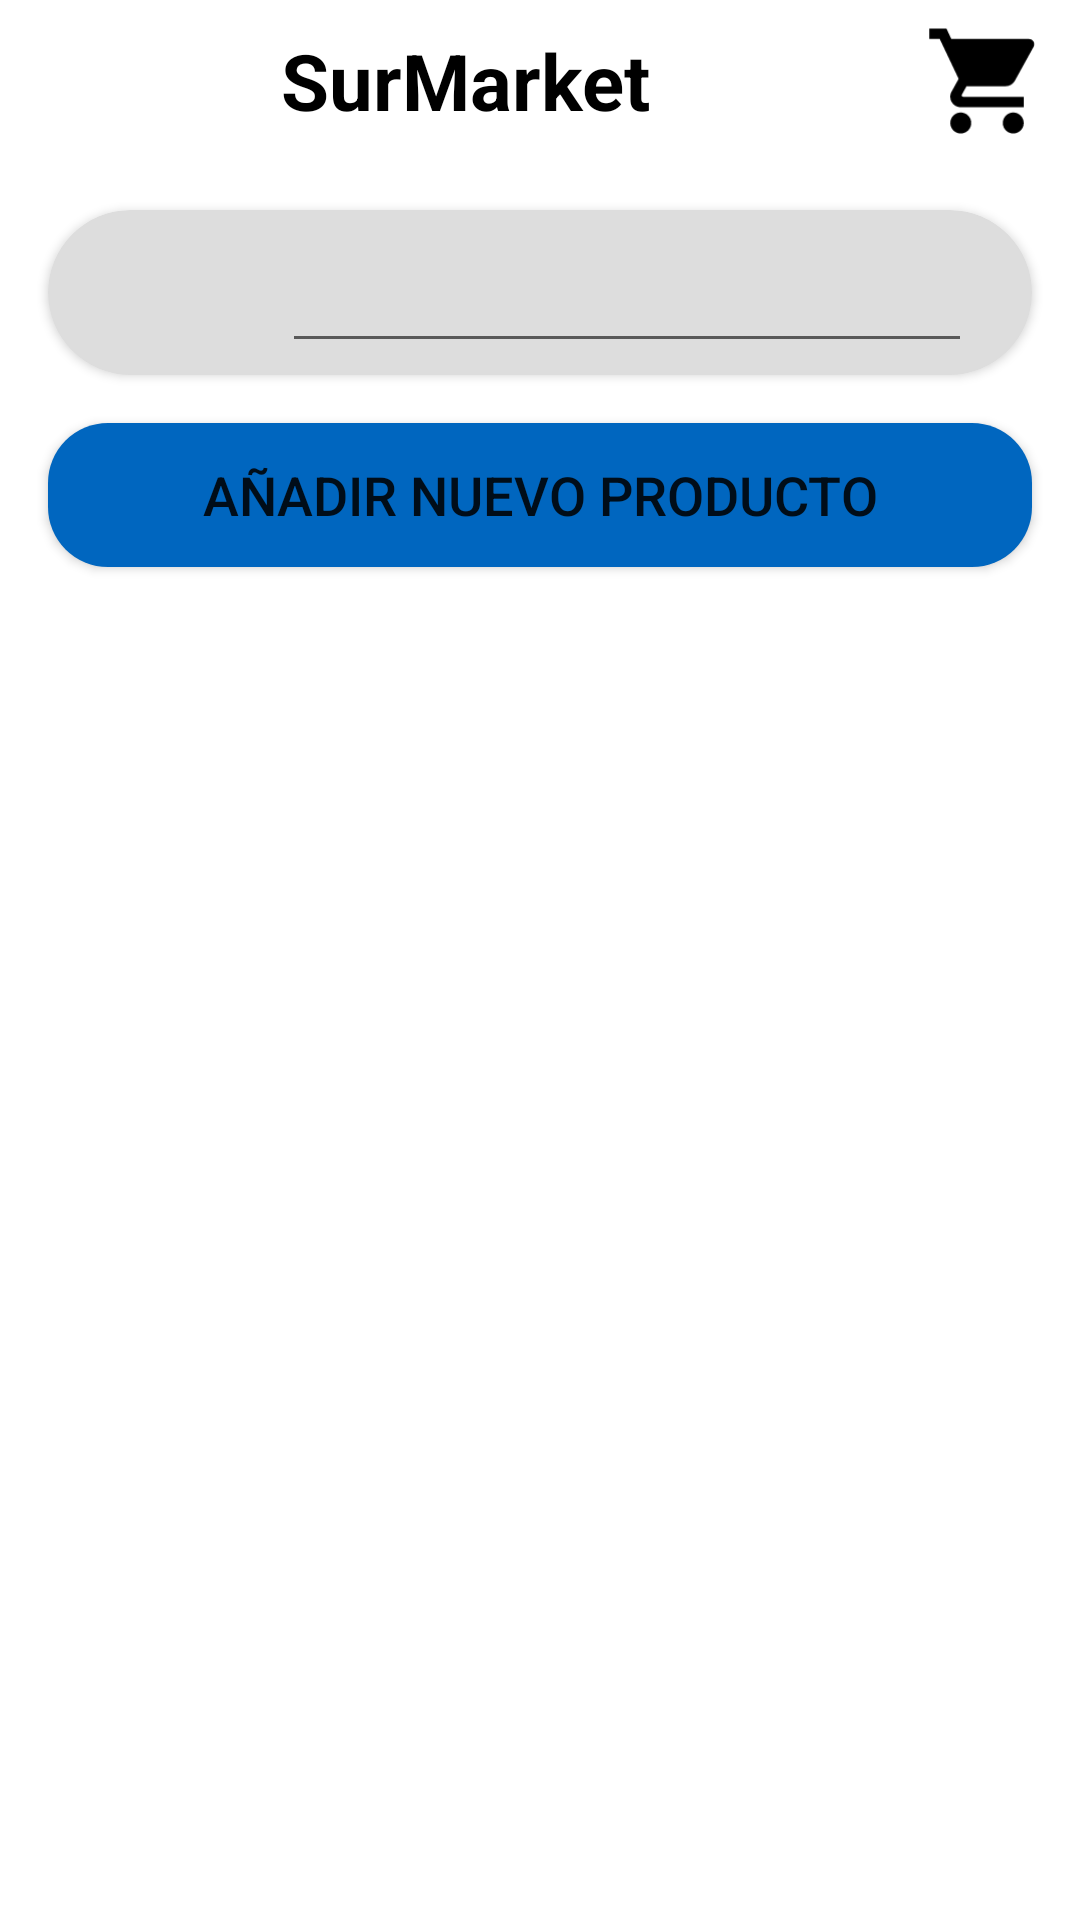

Point at icon controls on the screen. Image size 1080x1920, points as (x,y).
shopping cart: (982,81)
